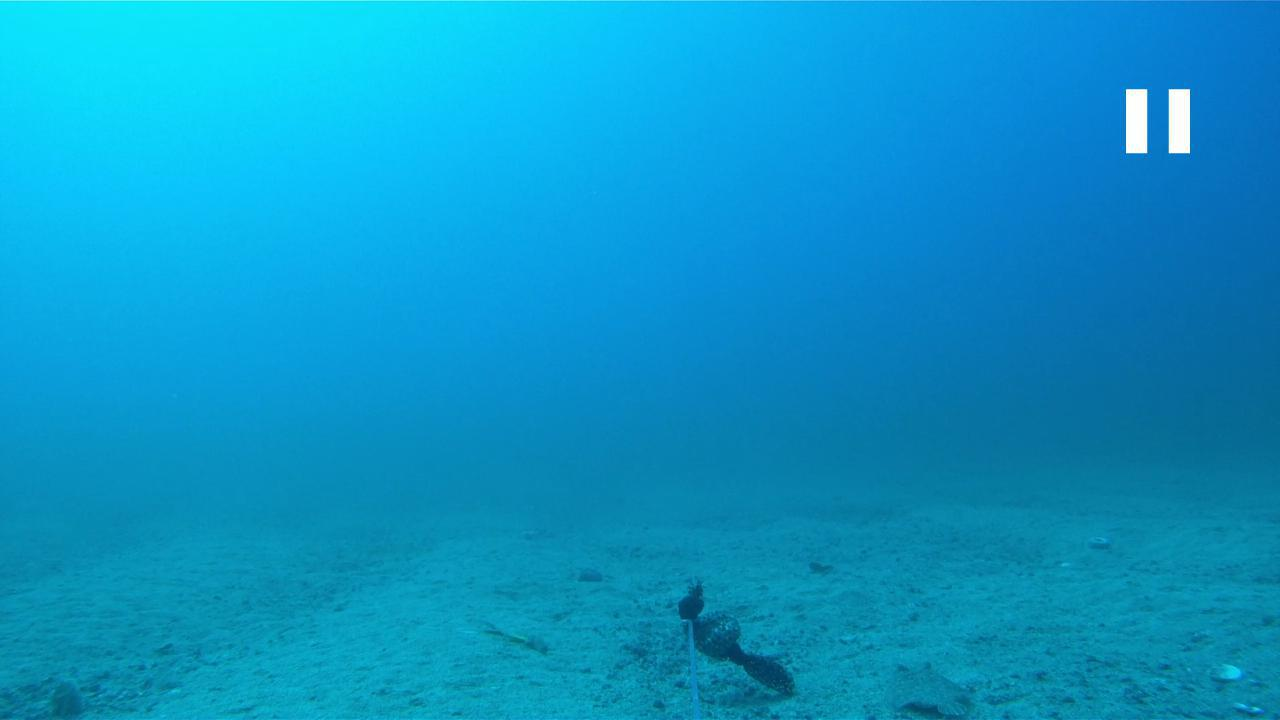bothus: (884, 655, 976, 719)
